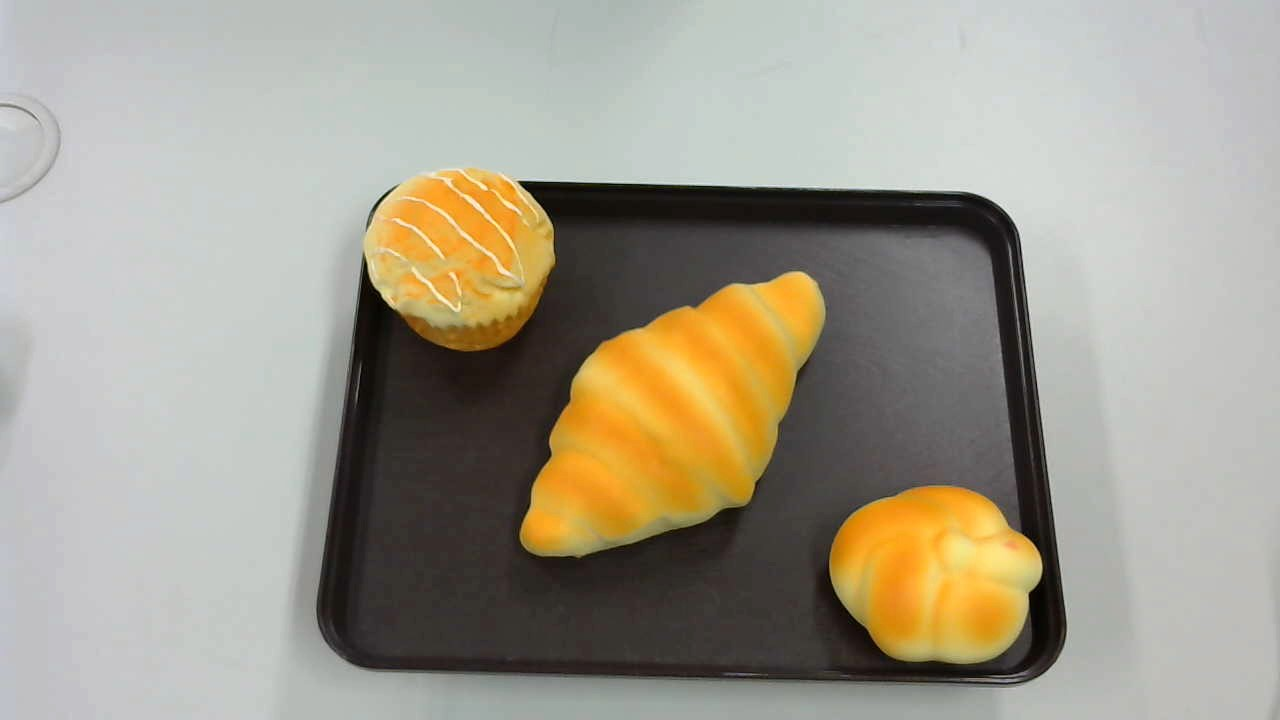croissant: (520, 269, 827, 561), (828, 485, 1042, 662)
cupcake: (362, 161, 557, 354)
